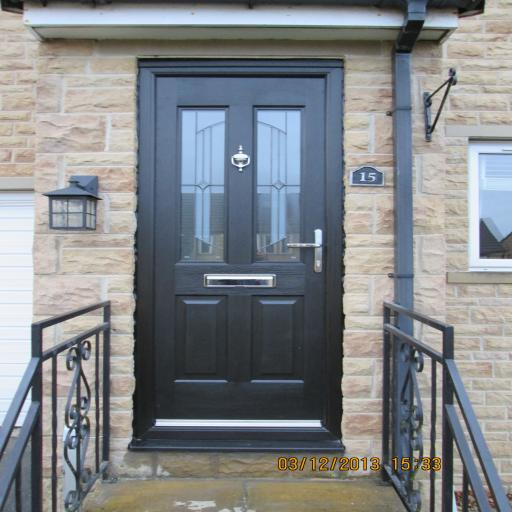Door: (127, 56, 345, 454)
